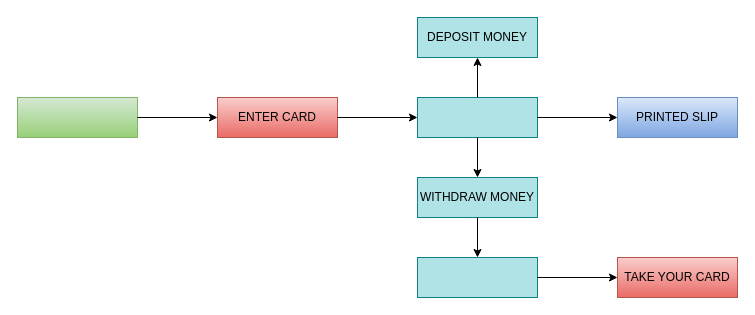
The diagram is 755 pixels wide and 315 high, and some of its shapes have lost their labels. The shapes that lost their labels are listed below. From the top down, each one's box as (x1, y1, x2, y2) in pixels, then its label:
(16, 96, 138, 138): ATM MACHINE
(416, 96, 538, 138): CHECK BALANCE
(416, 256, 538, 298): EXIT
